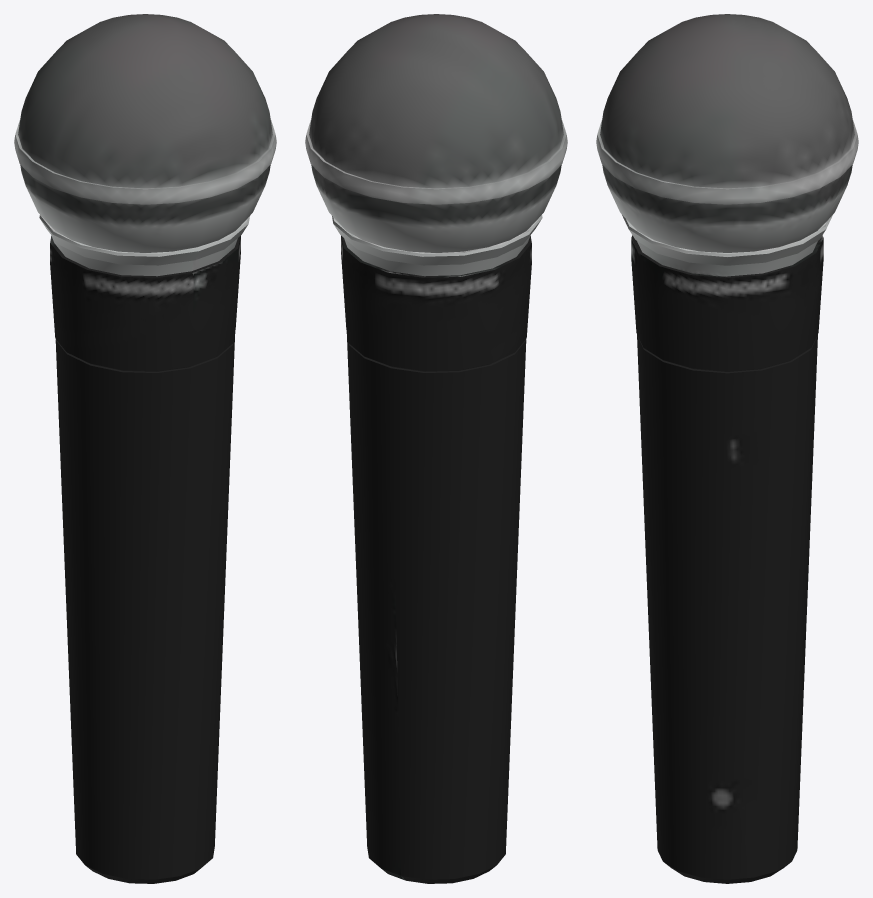
The model's file is Microphone.glb.
3 renders of one model, left to right at view 1: azimuth 30°, elevation 25°; view 2: azimuth 150°, elevation 25°; view 3: azimuth 270°, elevation 25°, orthographic.
Visible parts, largest first — view 1: Mic; view 2: Mic; view 3: Mic.
Part boxes in pixels (x1,y1,x2,y2): Mic: (14,14,276,883); Mic: (305,14,567,883); Mic: (596,14,858,883).
Bounding box in the file's own units: 1.22 × 4.28 × 1.22.
Materials: 1 (1 with a texture image).
